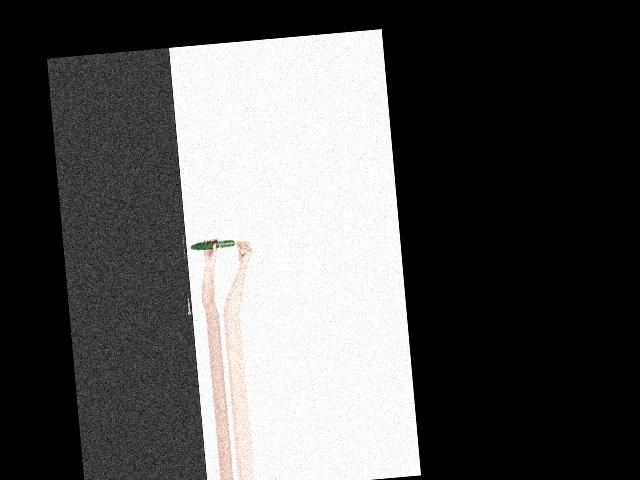cucumber: (188, 239, 235, 250)
